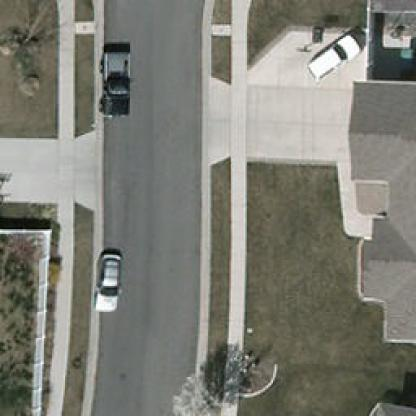car: (300, 32, 364, 84), (93, 254, 117, 312)
pickup: (101, 47, 128, 117)
